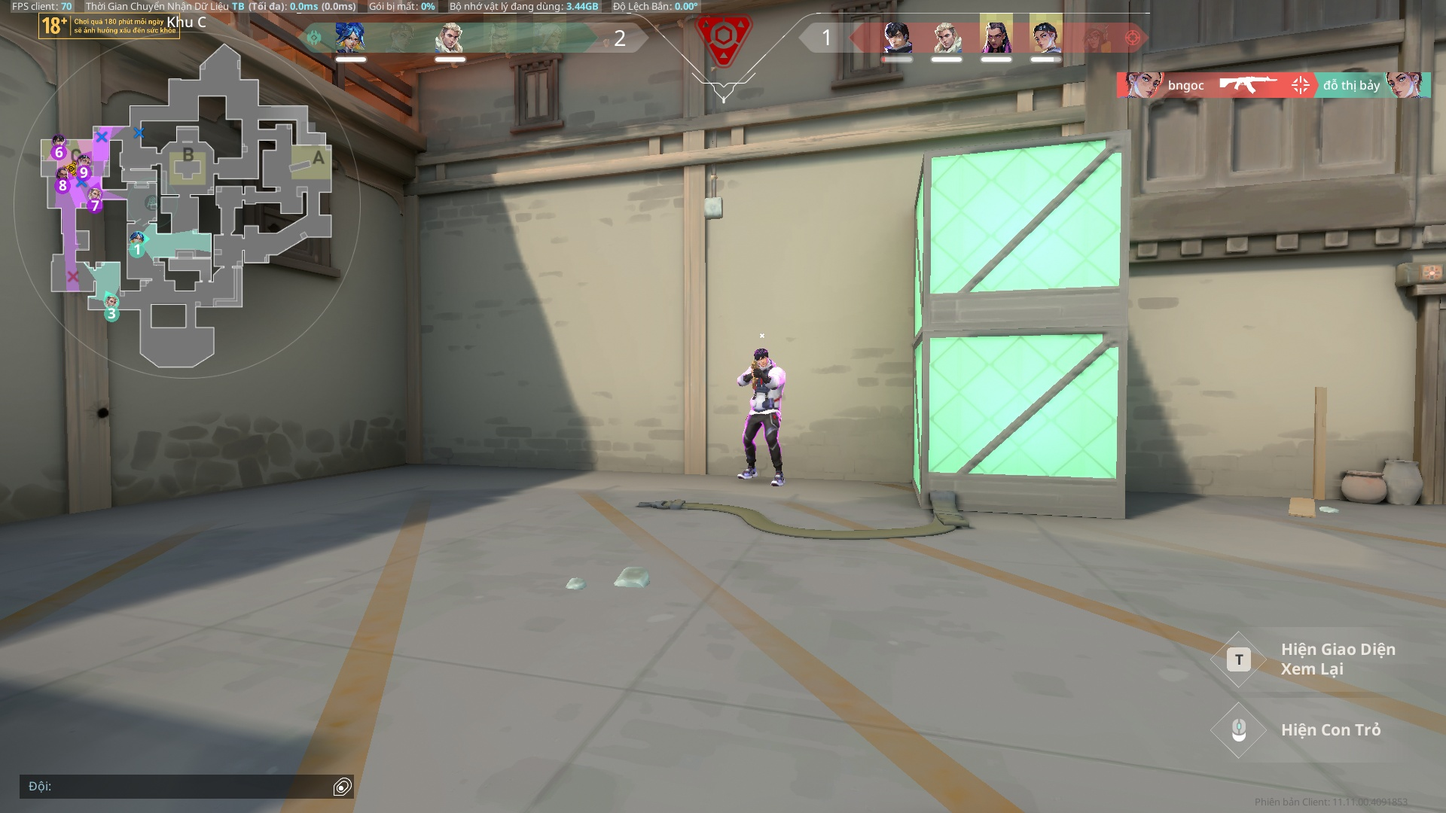body: (748, 361, 786, 408)
head: (751, 346, 771, 367)
